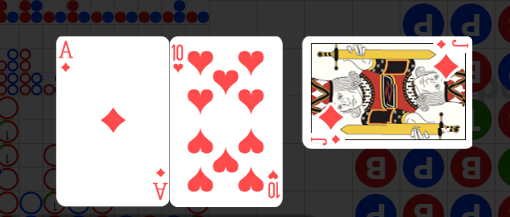10H: (267, 169, 281, 201)
AD: (59, 41, 76, 76)
